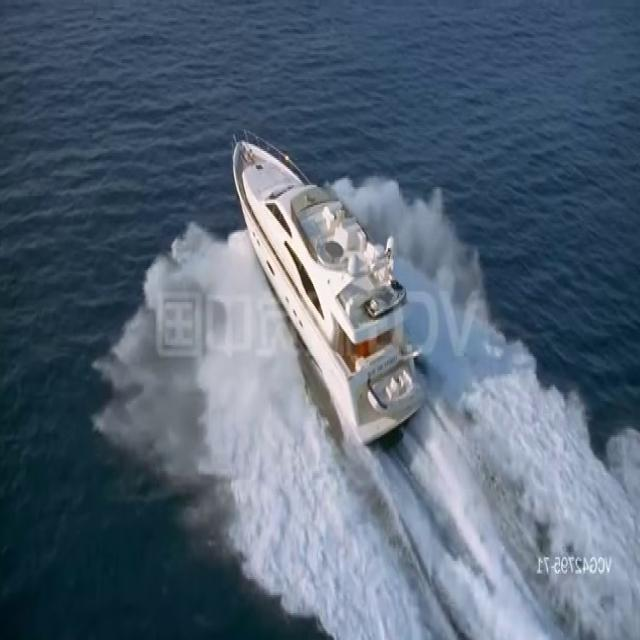houseboat: (228, 117, 432, 441)
